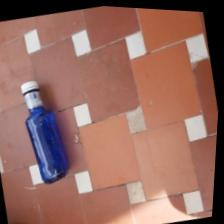glass: (21, 81, 68, 183)
plastic: (21, 81, 68, 183)
